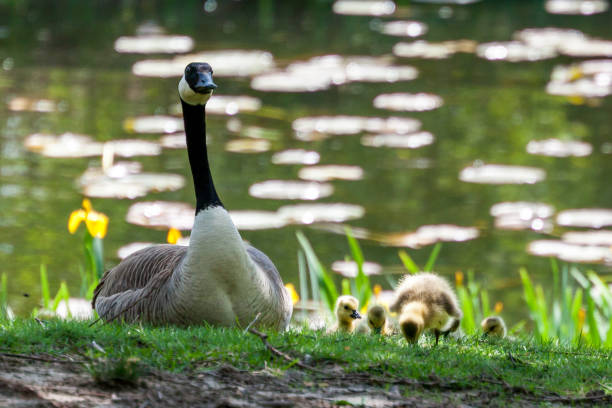goose: (84, 61, 293, 331)
